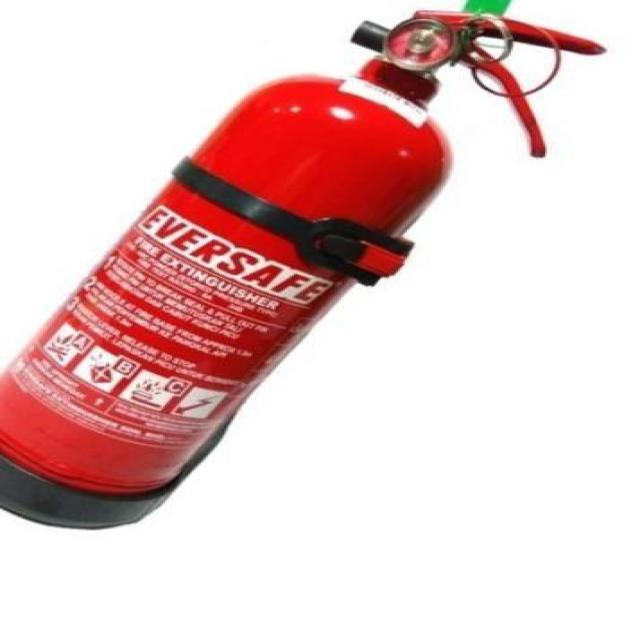fire_extinguisher: (0, 0, 611, 534)
